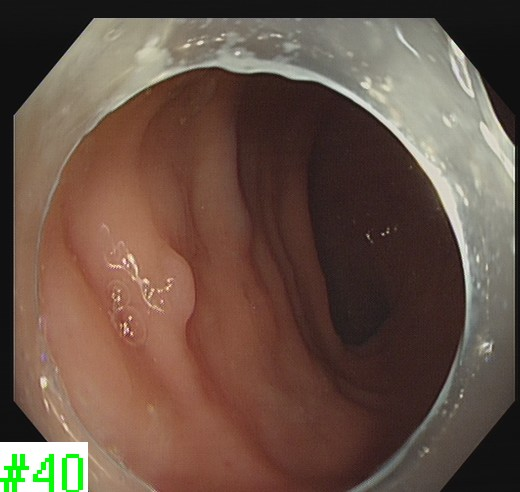others: (155, 242, 198, 326)
